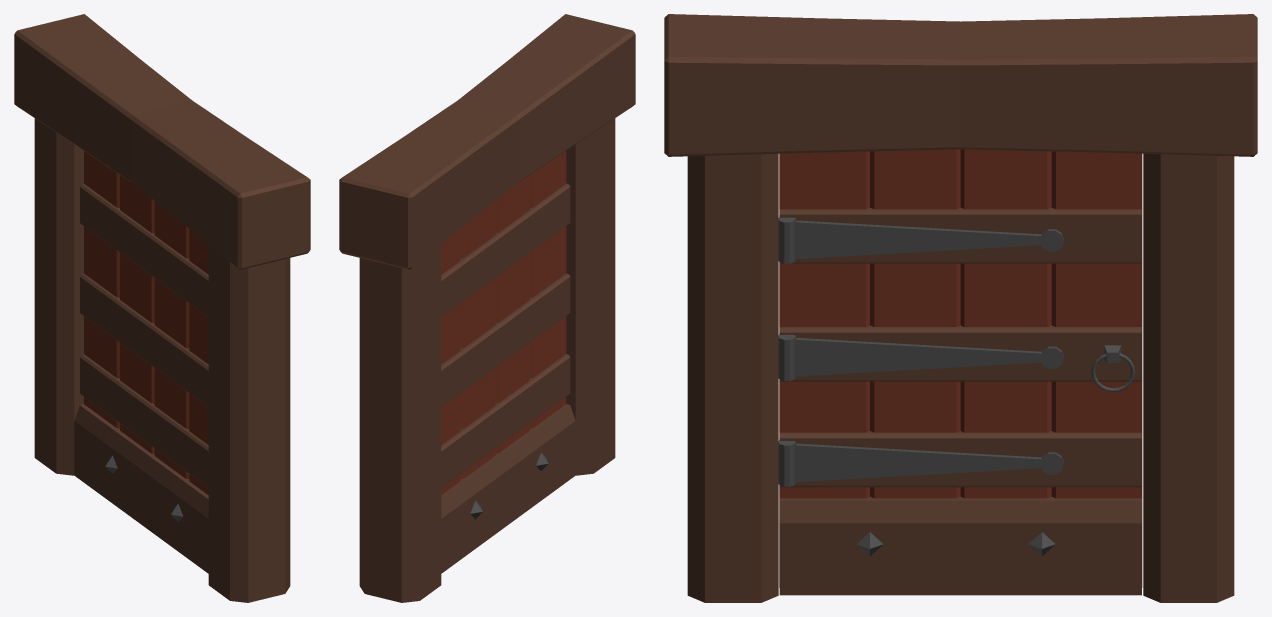
Rendered from low-poly-wooden-door.glb.
3 views of the same model, side by side, from view 1: azimuth 30°, elevation 25°; view 2: azimuth 150°, elevation 25°; view 3: azimuth 270°, elevation 25° (orthographic). The views are drawn at different scales.
Visible parts, largest first — view 1: Door Frame, Door; view 2: Door Frame, Door; view 3: Door Frame, Door.
Part boxes in pixels (x1,y1,x2,y2): Door Frame: (14,14,310,602); Door: (74,151,208,573); Door Frame: (339,14,635,602); Door: (441,151,575,573); Door Frame: (664,14,1257,602); Door: (778,149,1142,595).
Bounding box in the file's own units: 0.3126 × 1.71 × 1.68.
